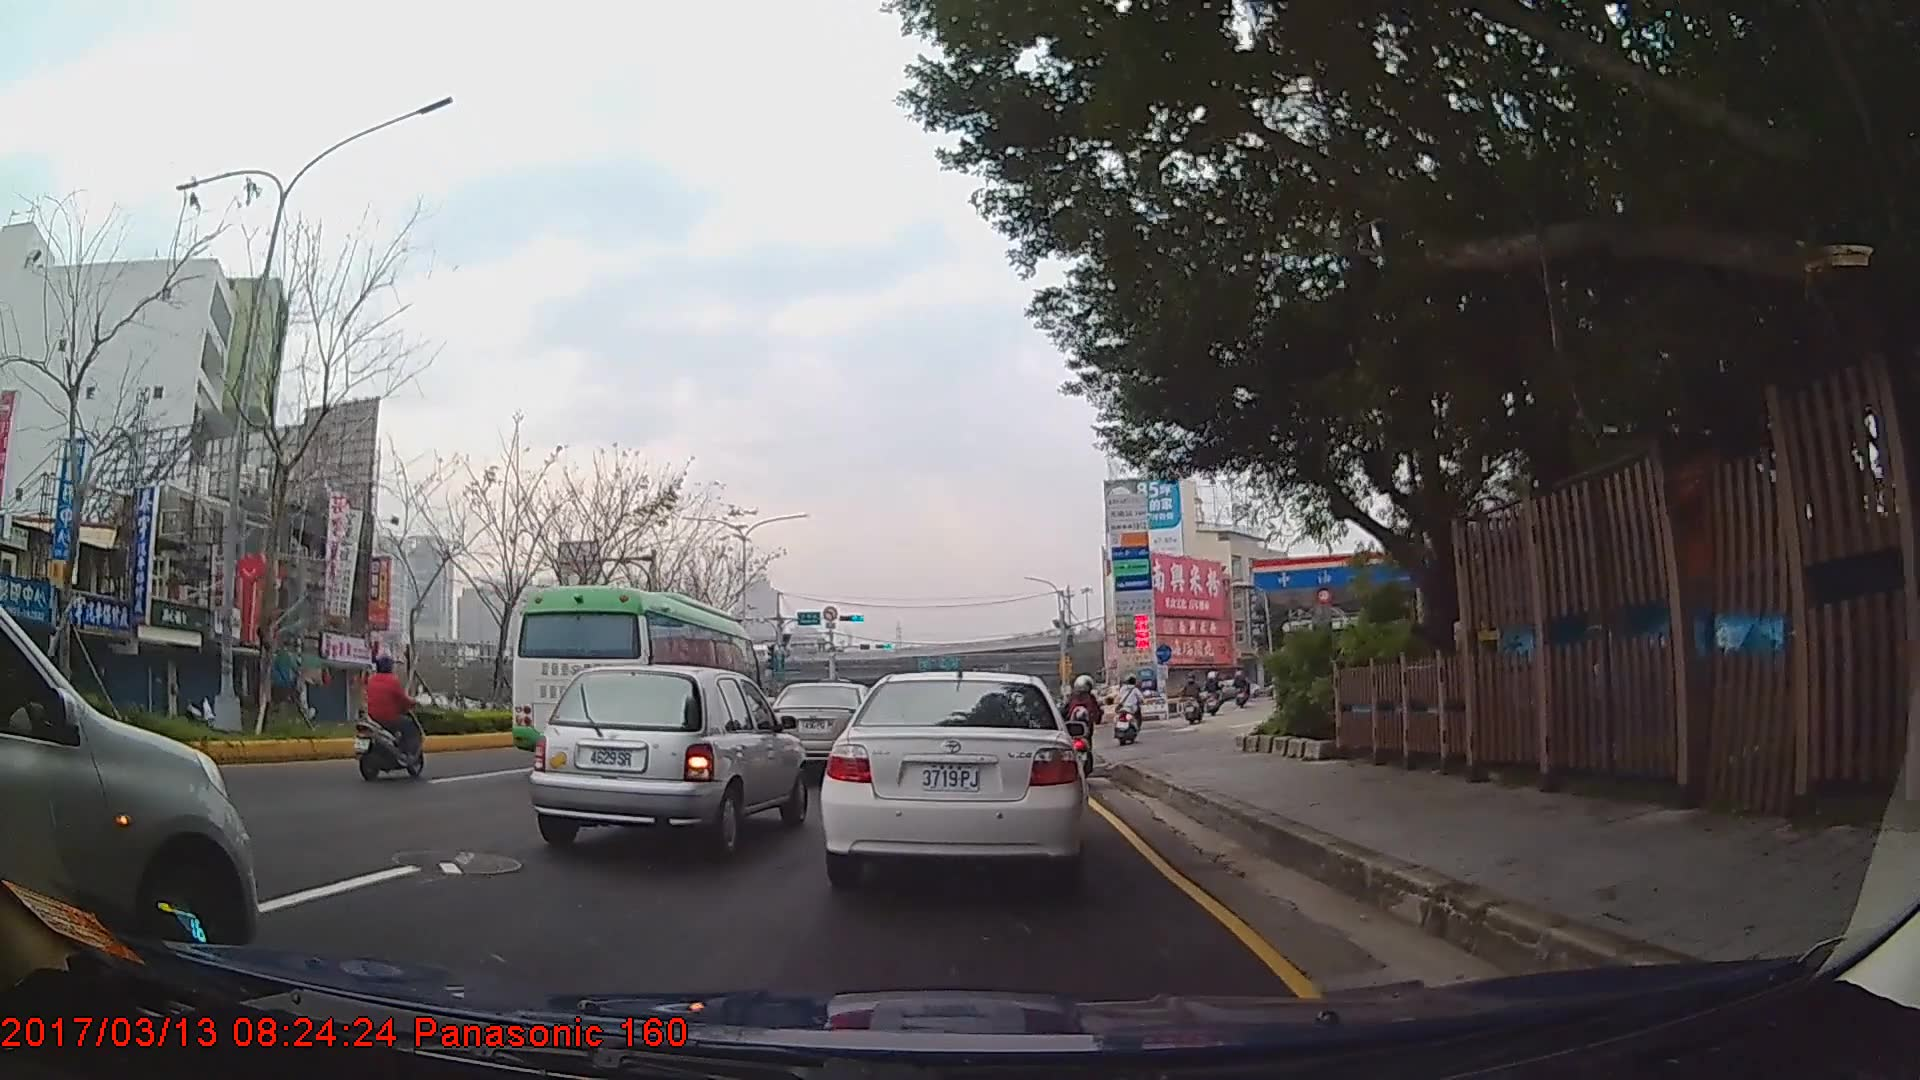rider: (351, 650, 426, 789), (1064, 673, 1108, 780), (1114, 674, 1146, 750), (1184, 670, 1204, 723)
vehicle: (0, 601, 258, 969), (821, 668, 1087, 883), (525, 661, 808, 852), (506, 582, 767, 787), (765, 680, 883, 773)
